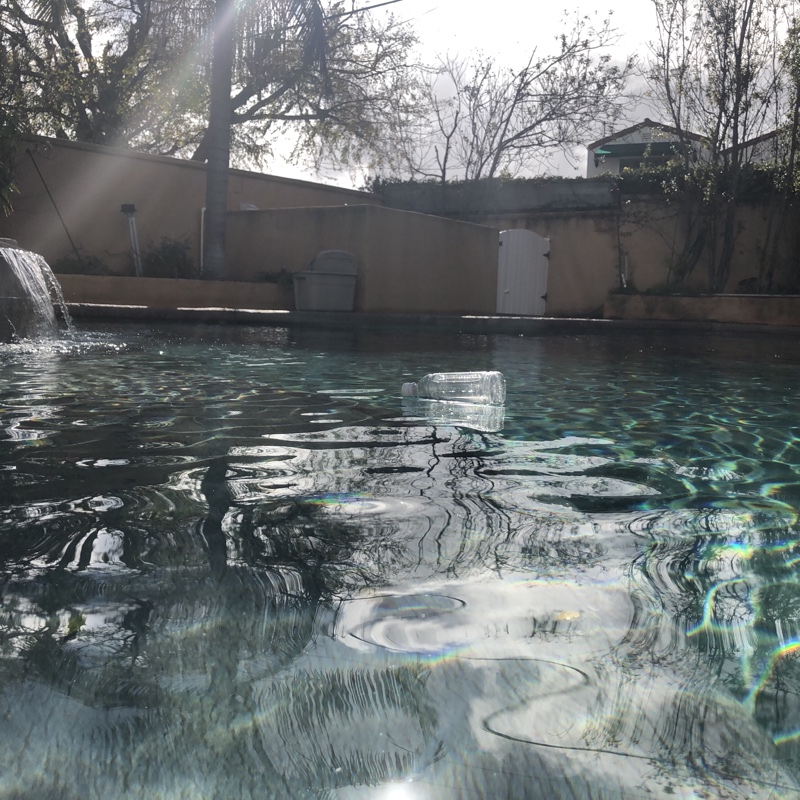Plastic Bottle: (395, 363, 508, 411)
